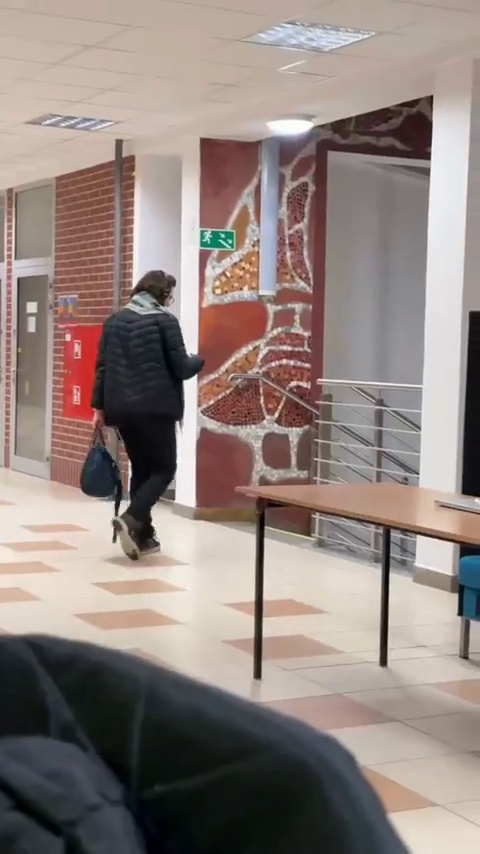no vest: (83, 266, 204, 556)
